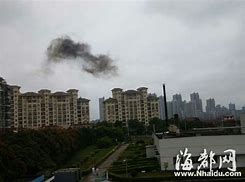smoke: (45, 36, 119, 79)
